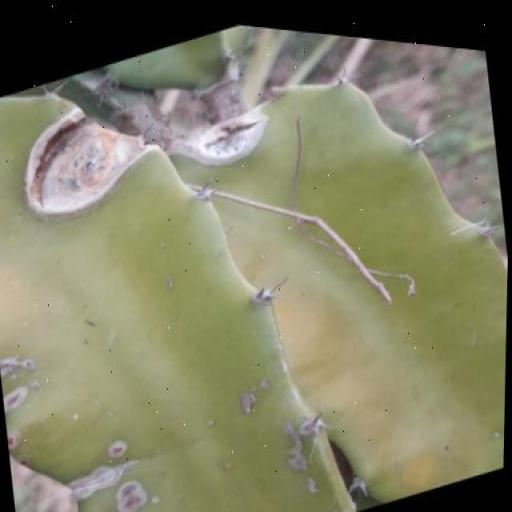stemcanker: (211, 487, 232, 512), (112, 374, 138, 393), (88, 443, 110, 462), (149, 432, 162, 454), (80, 333, 93, 354), (206, 378, 220, 397), (218, 421, 232, 439)
